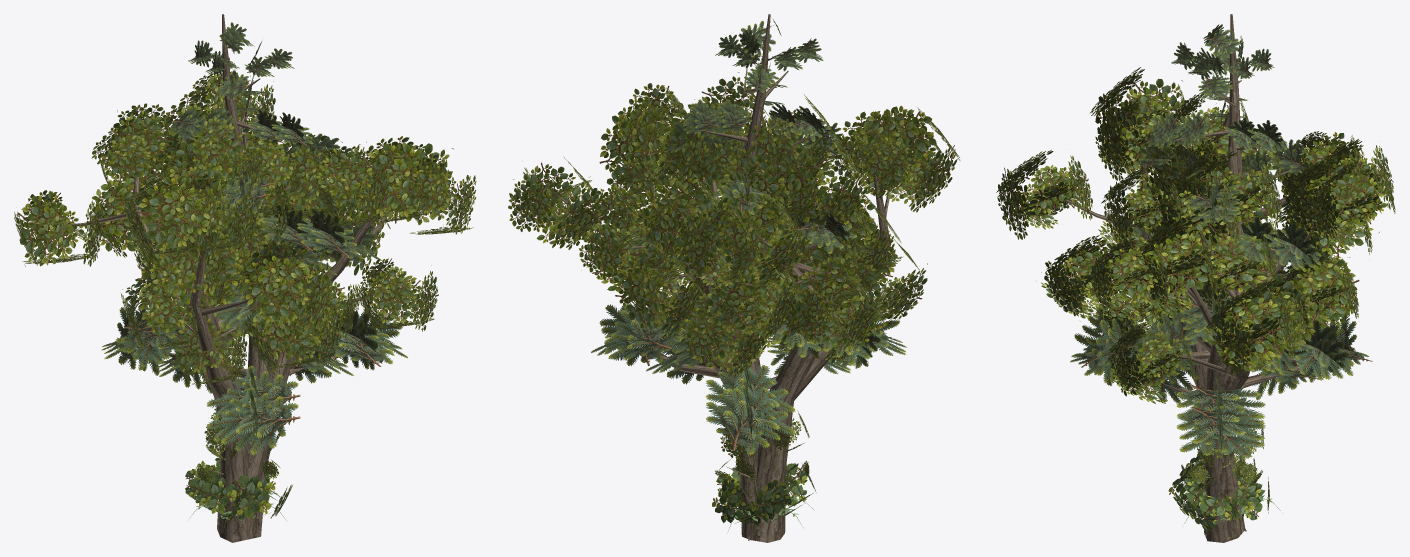
Rendered from flora-low-r16.glb.
3 renders of one model, left to right at view 1: azimuth 30°, elevation 25°; view 2: azimuth 150°, elevation 25°; view 3: azimuth 270°, elevation 25°, orthographic. The views are drawn at different scales.
Parts seen in each view (by area): view 1: alderTall_volumetric_leaf_clusters, alder_volumetric_leaf_clusters, pine_volumetric_leaf_clusters, alderTall_rooted_branch_skeleton, hazelShrub_botanical_foliage, pine_rooted_branch_skeleton, alder_rooted_branch_skeleton, alderSapling_botanical_foliage; view 2: alderTall_volumetric_leaf_clusters, alder_volumetric_leaf_clusters, pine_volumetric_leaf_clusters, alderTall_rooted_branch_skeleton, hazelShrub_botanical_foliage, pine_rooted_branch_skeleton, alderSapling_botanical_foliage, alder_rooted_branch_skeleton; view 3: alder_volumetric_leaf_clusters, pine_volumetric_leaf_clusters, alderTall_volumetric_leaf_clusters, alder_rooted_branch_skeleton, hazelShrub_botanical_foliage, pine_rooted_branch_skeleton, alderSapling_botanical_foliage, alderTall_rooted_branch_skeleton.
Boxes of the visible parts, bbox=[...] form: alderTall_volumetric_leaf_clusters: bbox=[14, 103, 389, 350]; alder_volumetric_leaf_clusters: bbox=[91, 71, 476, 384]; pine_volumetric_leaf_clusters: bbox=[101, 22, 407, 455]; alderTall_rooted_branch_skeleton: bbox=[60, 144, 329, 542]; hazelShrub_botanical_foliage: bbox=[185, 458, 292, 521]; pine_rooted_branch_skeleton: bbox=[166, 14, 341, 539]; alder_rooted_branch_skeleton: bbox=[220, 132, 410, 539]; alderSapling_botanical_foliage: bbox=[195, 408, 282, 482]; alderTall_volumetric_leaf_clusters: bbox=[577, 72, 960, 378]; alder_volumetric_leaf_clusters: bbox=[508, 83, 901, 363]; pine_volumetric_leaf_clusters: bbox=[591, 18, 906, 456]; alderTall_rooted_branch_skeleton: bbox=[625, 120, 891, 542]; hazelShrub_botanical_foliage: bbox=[712, 463, 816, 526]; pine_rooted_branch_skeleton: bbox=[654, 14, 846, 539]; alderSapling_botanical_foliage: bbox=[715, 410, 809, 483]; alder_rooted_branch_skeleton: bbox=[556, 134, 810, 540]; alder_volumetric_leaf_clusters: bbox=[1041, 151, 1395, 403]; pine_volumetric_leaf_clusters: bbox=[1070, 24, 1372, 465]; alderTall_volumetric_leaf_clusters: bbox=[996, 67, 1393, 383]; alder_rooted_branch_skeleton: bbox=[1093, 147, 1325, 542]; hazelShrub_botanical_foliage: bbox=[1168, 451, 1269, 531]; pine_rooted_branch_skeleton: bbox=[1145, 14, 1319, 542]; alderSapling_botanical_foliage: bbox=[1187, 420, 1263, 490]; alderTall_rooted_branch_skeleton: bbox=[1056, 111, 1290, 537].
Size of the model in its own units: 7.35 by 9.21 by 6.55.
4 materials, 3 textured.
